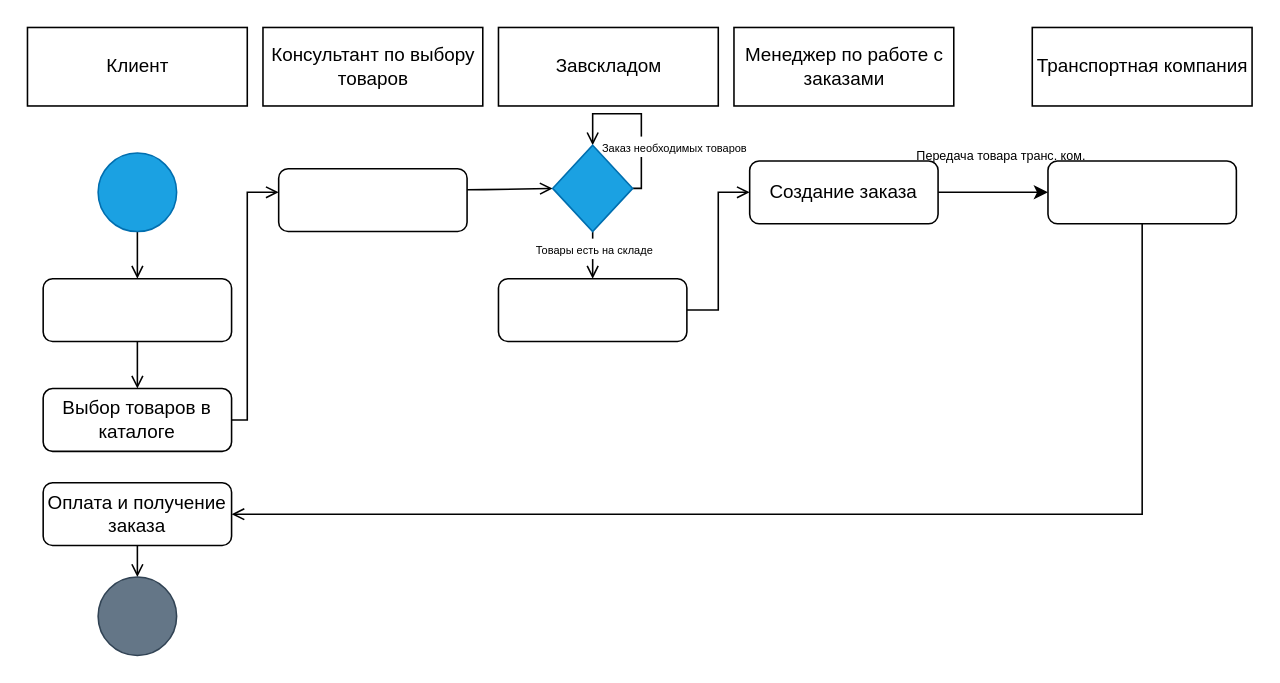
Image size: 1280x683. Some labels were removed from this diagram. The shapes that lost their labels are listed below. From the top down, each one's centre as x and y in pixels, then its label:
At point 372,199: "Запрос необходимого товара со склада".
At point 1141,191: "Отправка заказа".
At point 137,309: "Авторизация на сайте".
At point 592,309: "Сбор товаров в один заказ".
